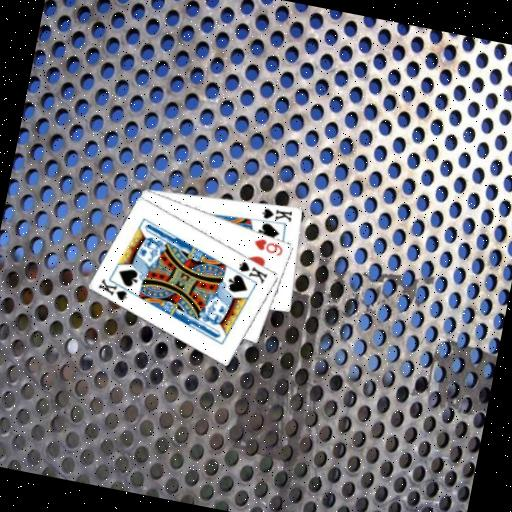6H: (250, 234, 287, 259)
KS: (94, 273, 137, 304), (234, 257, 272, 286), (258, 202, 295, 225)
